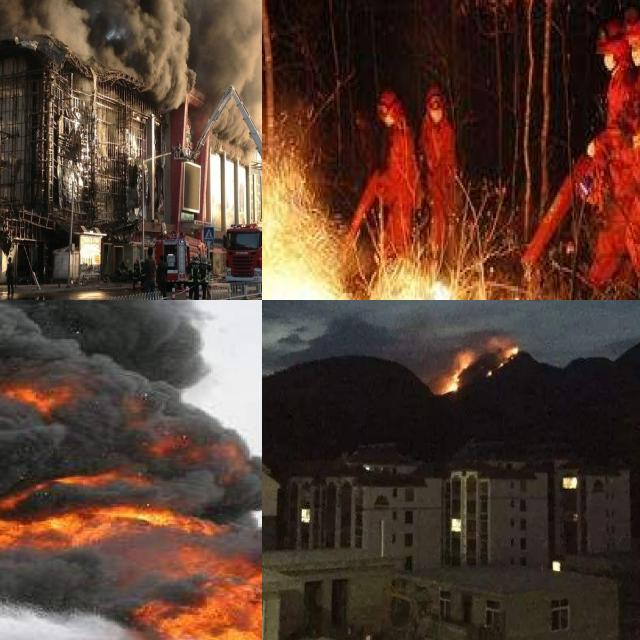fire: (0, 336, 262, 640), (262, 180, 499, 300), (428, 338, 518, 394)
smoke: (0, 300, 262, 619), (0, 0, 262, 153)
